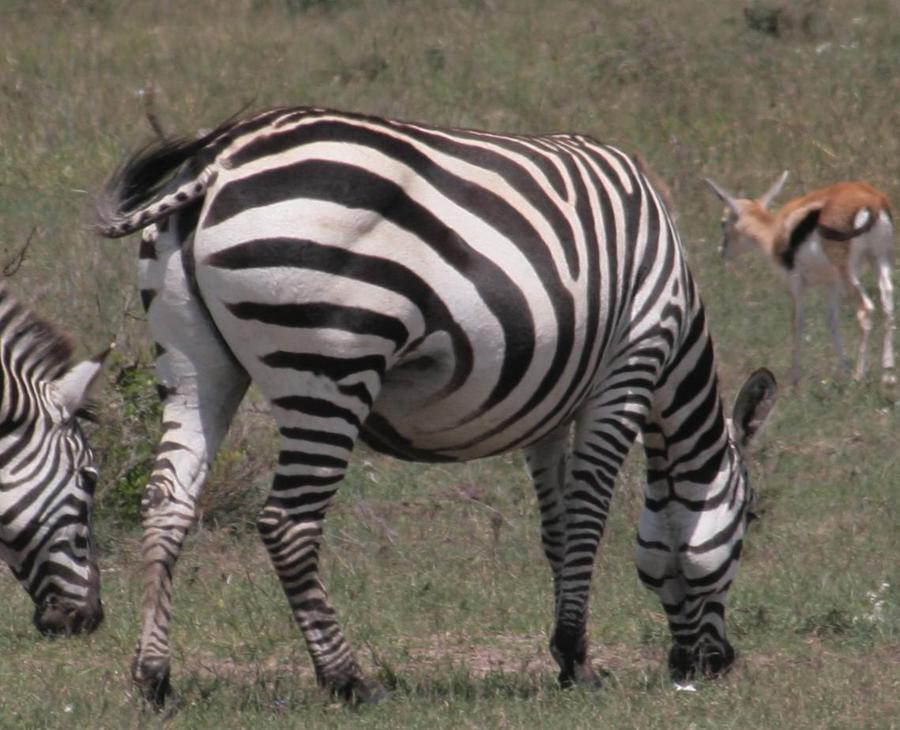zebra_plains: (211, 90, 742, 484)
